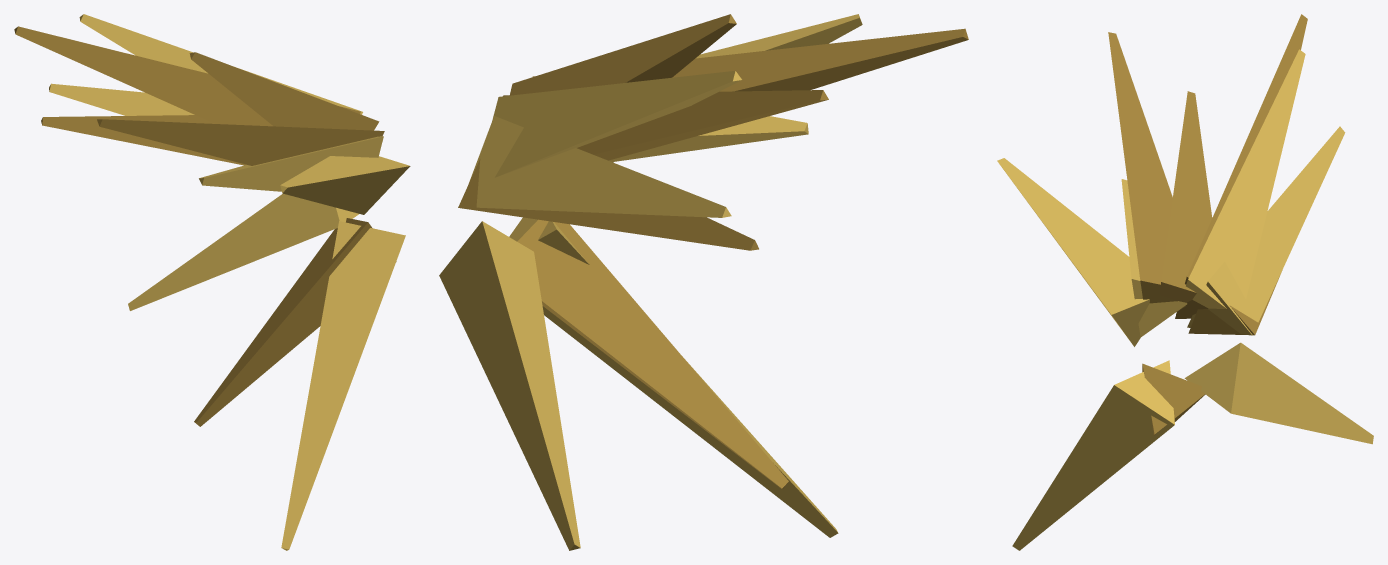
The model's file is scarecrow_cuff_r.glb.
3 renders of one model, left to right at view 1: azimuth 30°, elevation 25°; view 2: azimuth 150°, elevation 25°; view 3: azimuth 270°, elevation 25°, orthographic. The views are drawn at different scales.
Parts seen in each view (by area): view 1: scarecrow_cuff_r; view 2: scarecrow_cuff_r; view 3: scarecrow_cuff_r.
Part boxes in pixels (x1,y1,x2,y2): scarecrow_cuff_r: (14,14,410,550); scarecrow_cuff_r: (439,14,968,550); scarecrow_cuff_r: (997,14,1373,550).
Size of the model in its own units: 0.2282 by 0.307 by 0.2228.
